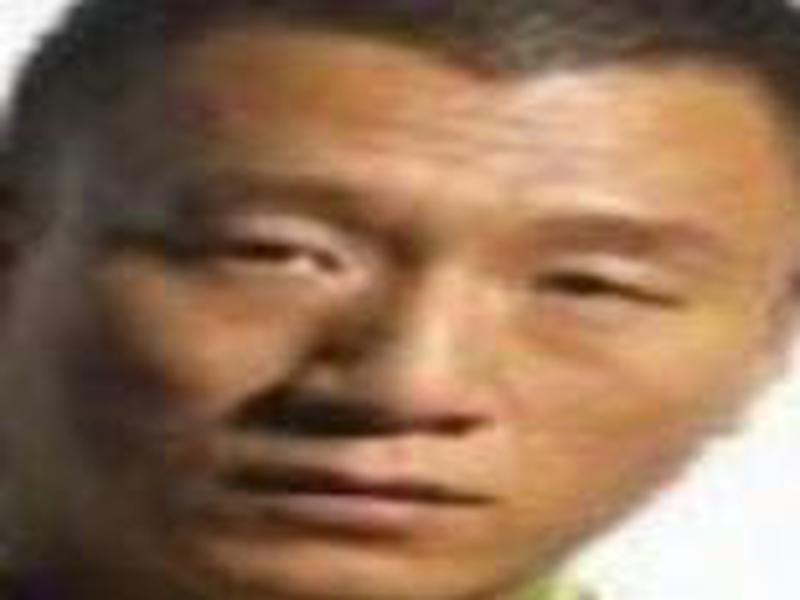without_mask: (33, 29, 770, 597)
